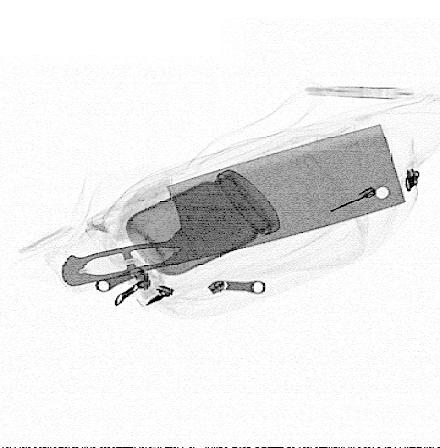Knife: (61, 123, 408, 289)
